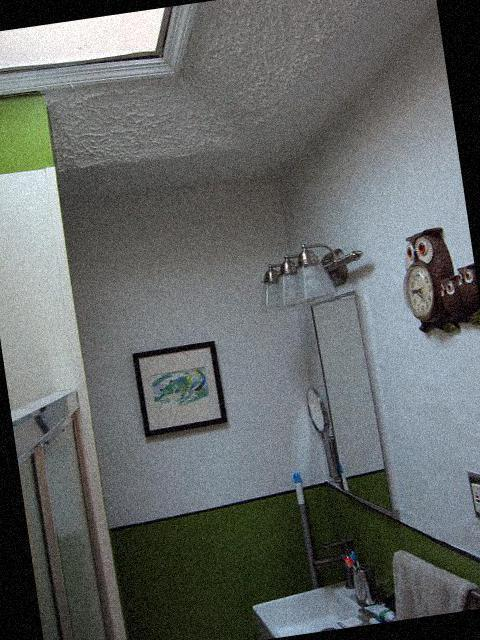Ducha: (9, 386, 123, 640)
Lavamanos: (243, 552, 386, 640)
